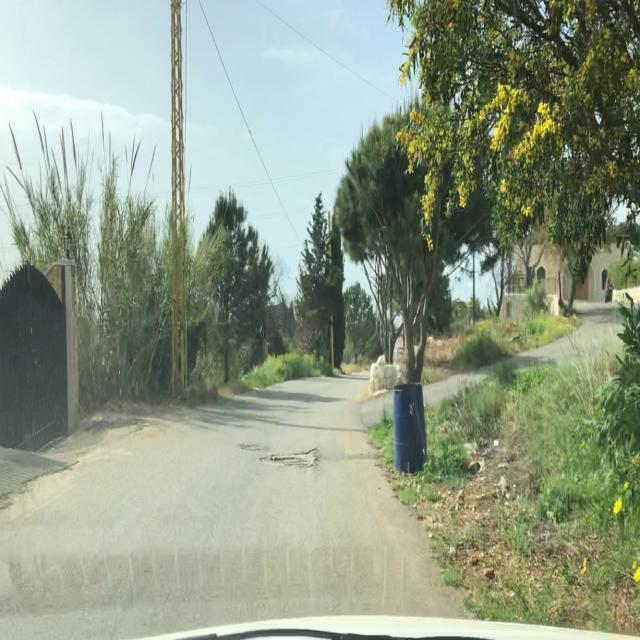pothole: (256, 446, 320, 473)
